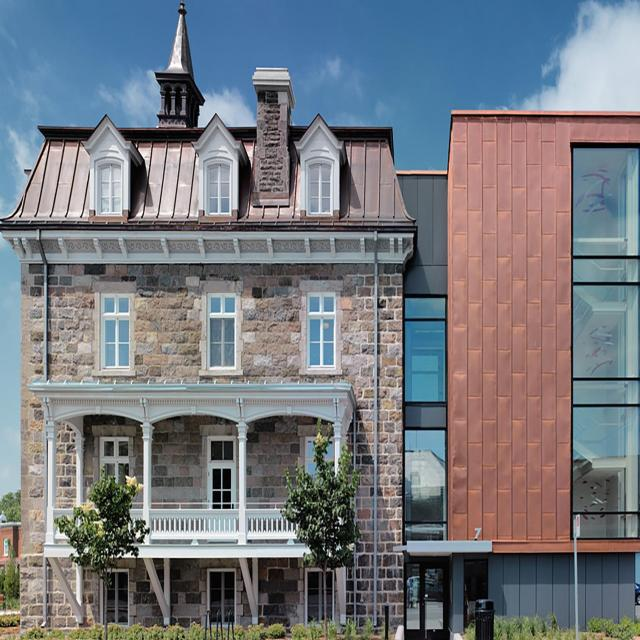Railing: (139, 511, 295, 544)
door: (406, 556, 448, 640), (464, 559, 489, 637), (206, 568, 237, 630), (304, 568, 334, 629), (102, 570, 132, 626)
plant: (280, 421, 363, 627), (54, 468, 147, 631), (26, 624, 383, 639), (466, 614, 640, 639), (0, 538, 21, 612), (0, 491, 21, 525)
wall: (0, 0, 640, 635)
windows: (573, 148, 637, 539), (403, 294, 448, 403), (406, 429, 450, 540), (207, 292, 238, 370), (100, 290, 130, 367), (208, 432, 238, 508), (306, 292, 335, 366), (96, 436, 129, 484), (305, 433, 334, 479), (308, 161, 332, 213), (208, 162, 230, 214), (102, 162, 122, 212)
